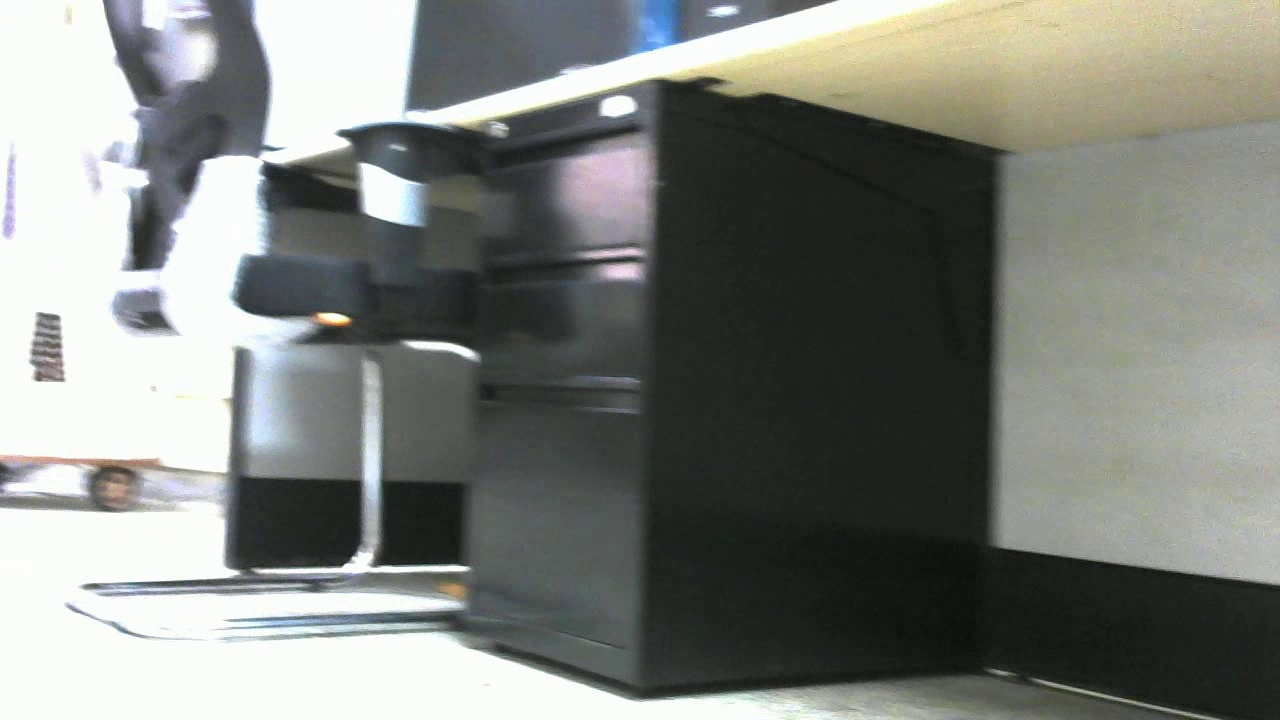chair: (67, 2, 491, 634)
